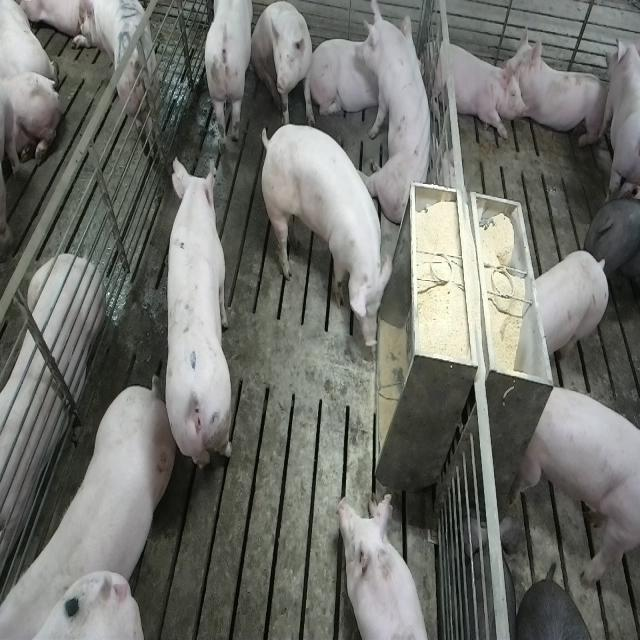Sitting: (366, 4, 441, 230), (251, 1, 316, 126)
Standing: (258, 116, 392, 353), (516, 382, 639, 594), (163, 154, 233, 480), (532, 251, 611, 370), (202, 2, 254, 153), (586, 192, 640, 315), (607, 33, 640, 201), (517, 576, 600, 638)
Sternal_lying: (0, 249, 102, 581), (334, 490, 433, 640), (504, 23, 610, 147), (311, 26, 423, 124), (425, 30, 523, 141)
